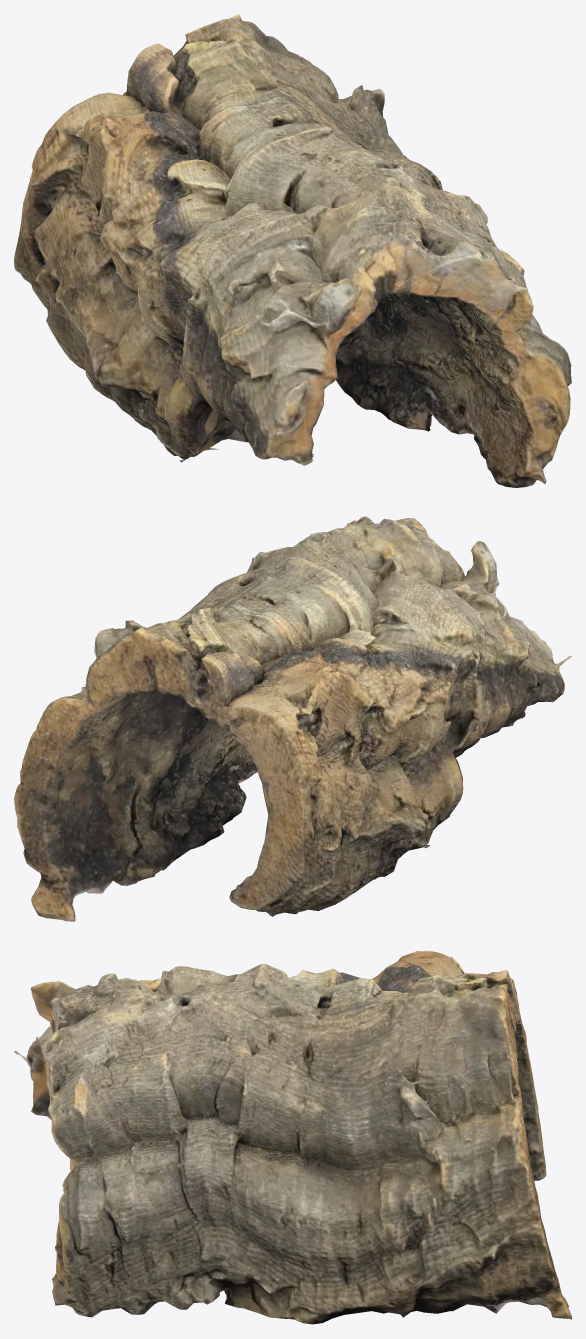
Rendered from cork2.glb.
3 renders of one model, top to bottom at view 1: azimuth 30°, elevation 25°; view 2: azimuth 150°, elevation 25°; view 3: azimuth 270°, elevation 25°, orthographic. The views are drawn at different scales.
Visible parts, largest first — view 1: Object_4; view 2: Object_4; view 3: Object_4.
Part boxes in pixels (<box>): Object_4: <box>14,14,571,487</box>; Object_4: <box>14,516,571,921</box>; Object_4: <box>14,950,571,1324</box>.
Size of the model in its own units: 0.1917 by 0.1652 by 0.2828.
Materials: 1 (1 with a texture image).
